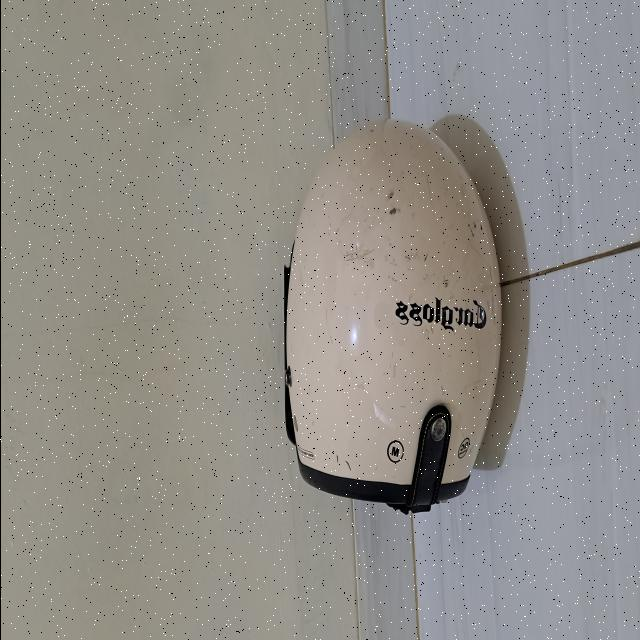Helmet: (284, 120, 500, 513)
